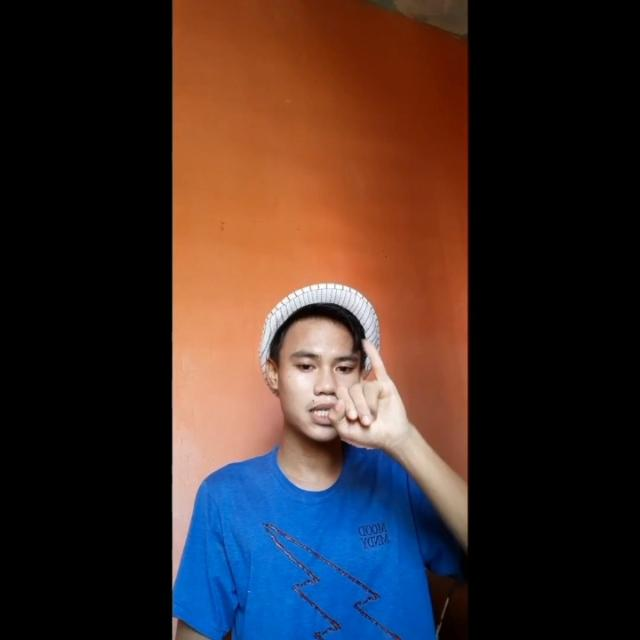I: (329, 335, 415, 455)
